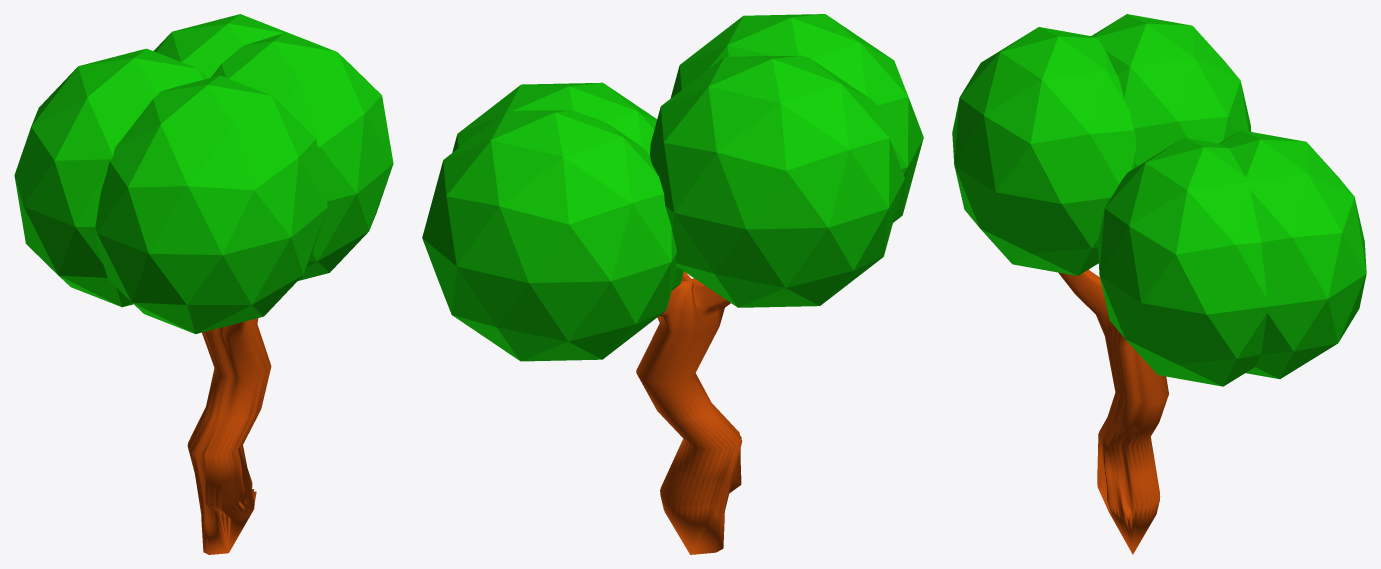
Rendered from tree.obj.
3 views of the same model, side by side, from view 1: azimuth 30°, elevation 25°; view 2: azimuth 150°, elevation 25°; view 3: azimuth 270°, elevation 25° (orthographic). The views are drawn at different scales.
Visible parts, largest first — view 1: Icosphere.098_Icosphere.097; view 2: Icosphere.098_Icosphere.097; view 3: Icosphere.098_Icosphere.097.
Part boxes in pixels (bbox=[...]): Icosphere.098_Icosphere.097: bbox=[14, 14, 393, 554]; Icosphere.098_Icosphere.097: bbox=[422, 14, 923, 554]; Icosphere.098_Icosphere.097: bbox=[952, 14, 1366, 554].
Size of the model in its own units: 10.15 by 12.6 by 9.64.
